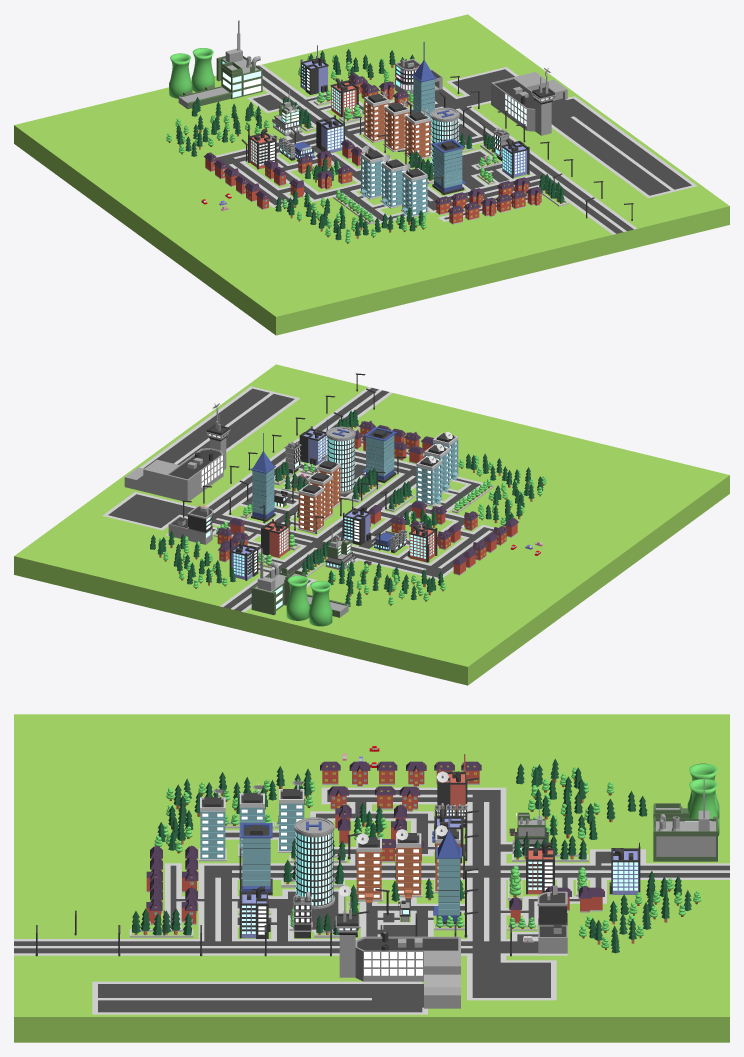
File: City_17.fbx
3 views of the same model, one above another, from view 1: azimuth 30°, elevation 25°; view 2: azimuth 150°, elevation 25°; view 3: azimuth 270°, elevation 25° (orthographic). The views are drawn at different scales.
Visible parts, largest first — view 1: Cylinder.044; view 2: Cylinder.044; view 3: Cylinder.044.
Part boxes in pixels (x1,y1,x2,y2): Cylinder.044: [14, 14, 729, 335]; Cylinder.044: [14, 364, 729, 685]; Cylinder.044: [14, 714, 729, 1042].
Size of the model in its own units: 16656 by 3581 by 16656.
